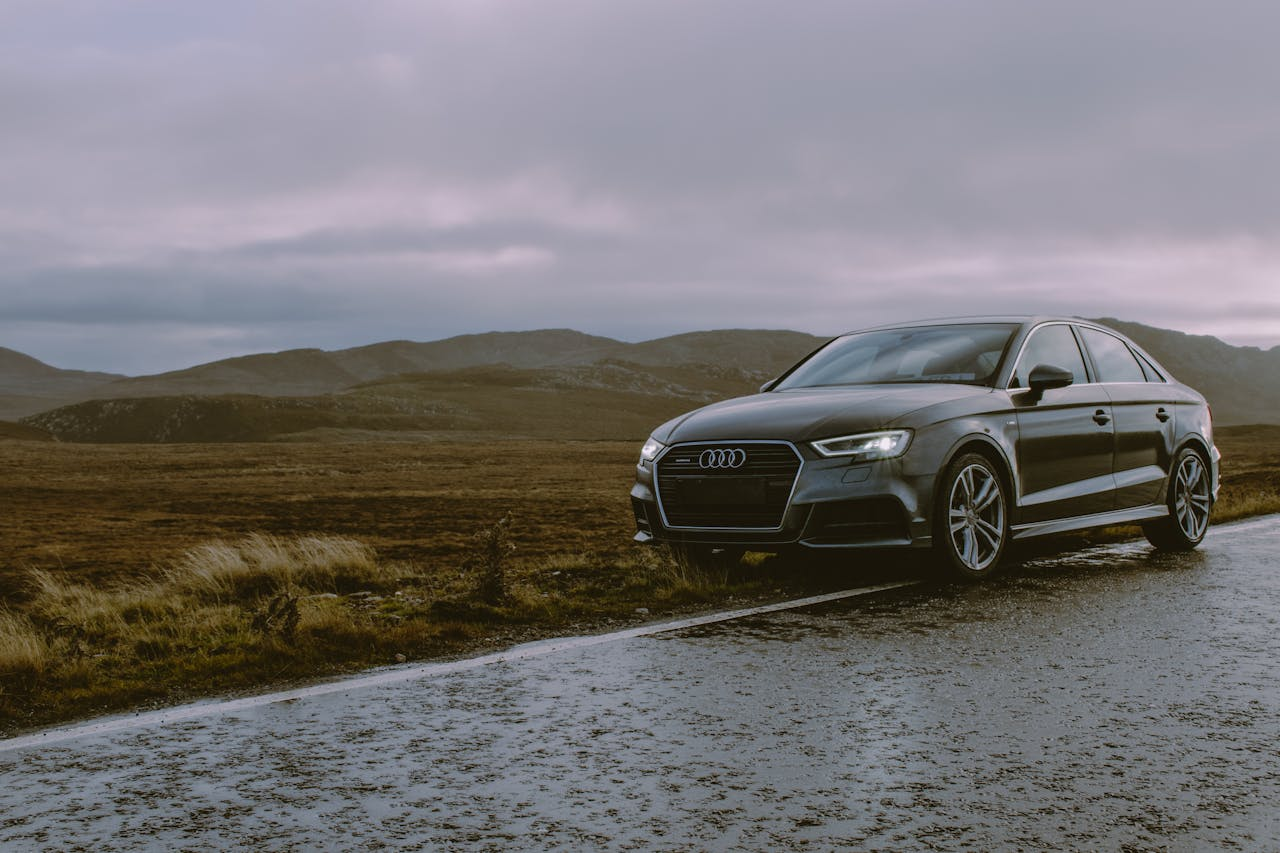car: (619, 290, 1231, 593)
